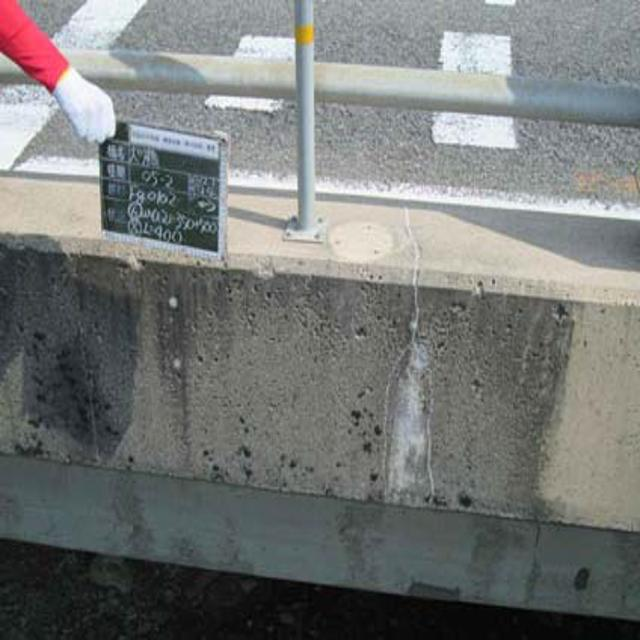freelime: (369, 339, 444, 507)
